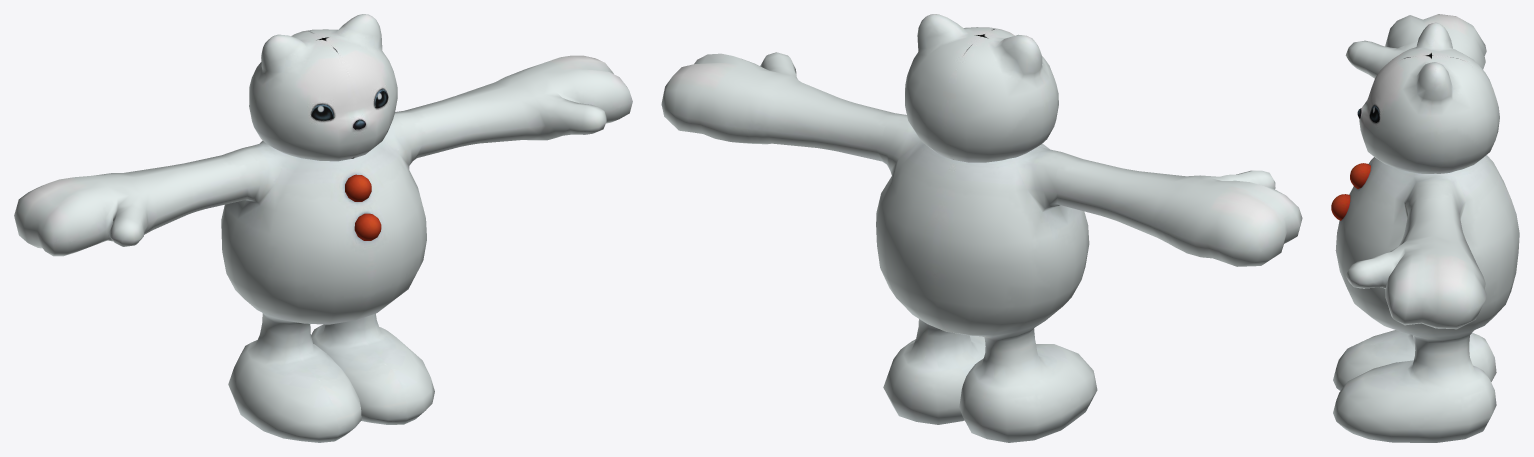
Rendered from asset.glb.
3 views of the same model, side by side, from view 1: azimuth 30°, elevation 25°; view 2: azimuth 150°, elevation 25°; view 3: azimuth 270°, elevation 25° (orthographic). The views are drawn at different scales.
Parts seen in each view (by area): view 1: chr370; view 2: chr370; view 3: chr370.
Boxes of the visible parts, x1=… form: chr370: x1=14, y1=14, x2=632, y2=442; chr370: x1=661, y1=14, x2=1302, y2=442; chr370: x1=1331, y1=14, x2=1519, y2=442.
Bounding box in the file's own units: 5.42 × 3.28 × 1.54.
1 material, 1 textured.
